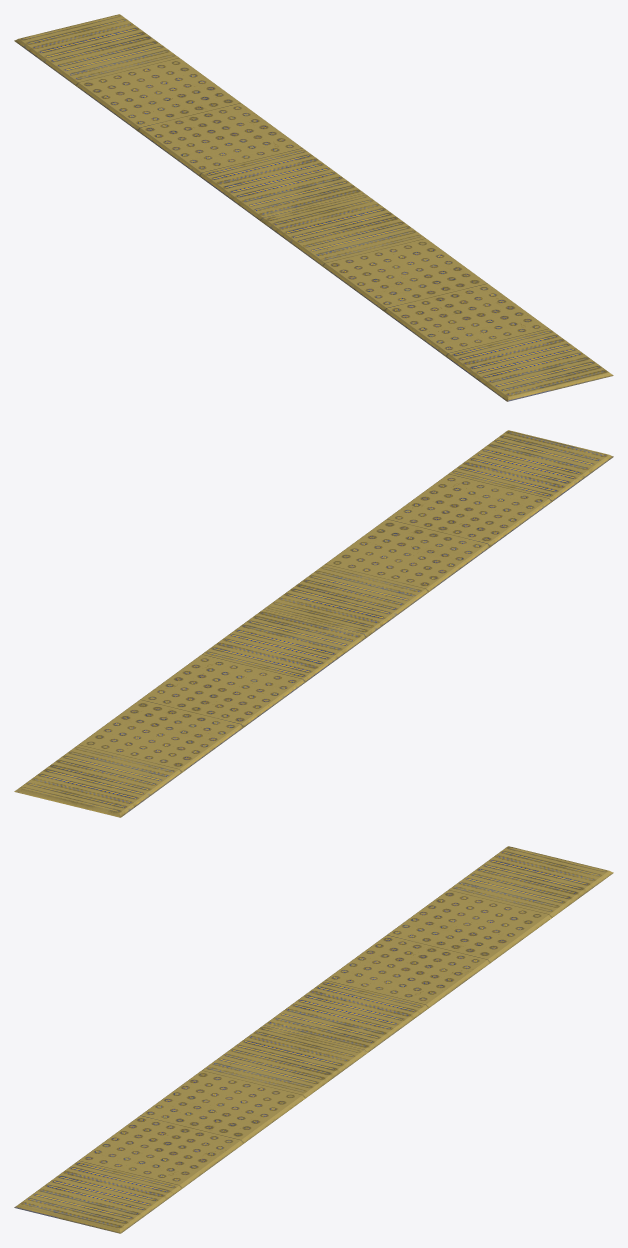
File: CP_Tactile_Tiles_4x0.5.fbx
The picture shows the model from 3 angles, top to bottom: view 1: azimuth 30°, elevation 25°; view 2: azimuth 150°, elevation 25°; view 3: azimuth 330°, elevation 25°; orthographic projection.
Visible parts, largest first — view 1: CP_Tactile_Tiles_4x0.5m; view 2: CP_Tactile_Tiles_4x0.5m; view 3: CP_Tactile_Tiles_4x0.5m.
Boxes of the visible parts, <box> form: CP_Tactile_Tiles_4x0.5m: <box>14,14,613,401</box>; CP_Tactile_Tiles_4x0.5m: <box>14,430,613,817</box>; CP_Tactile_Tiles_4x0.5m: <box>14,846,613,1233</box>.
Size of the model in its own units: 50 by 1.21 by 400.
